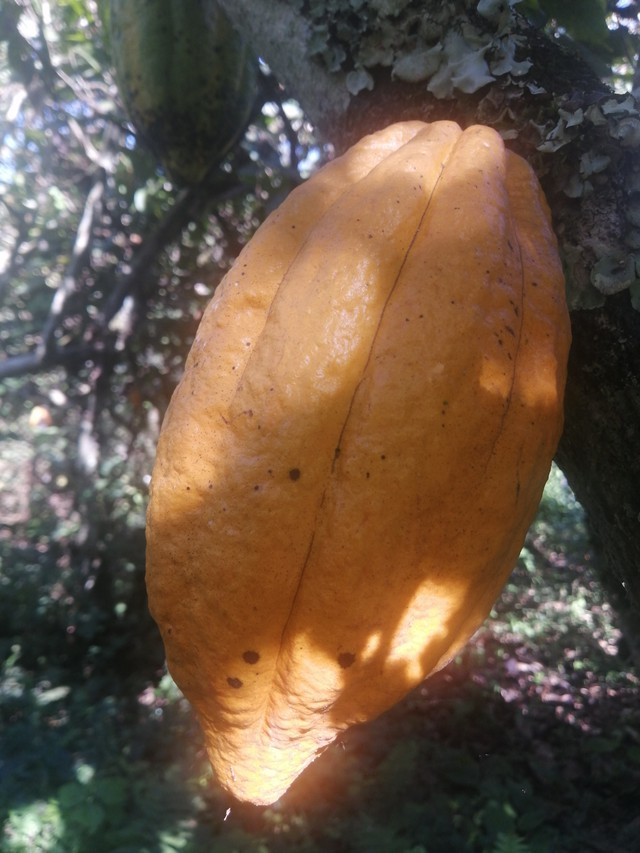Health: (102, 102, 582, 820)
